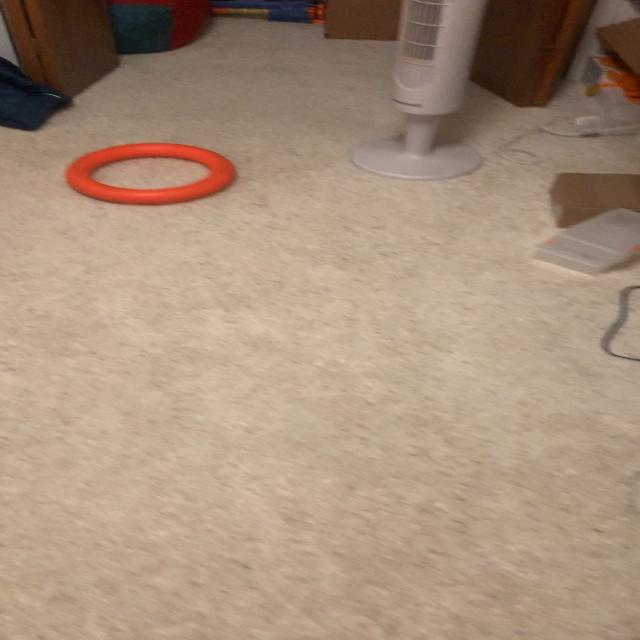notes: (66, 142, 235, 206)
